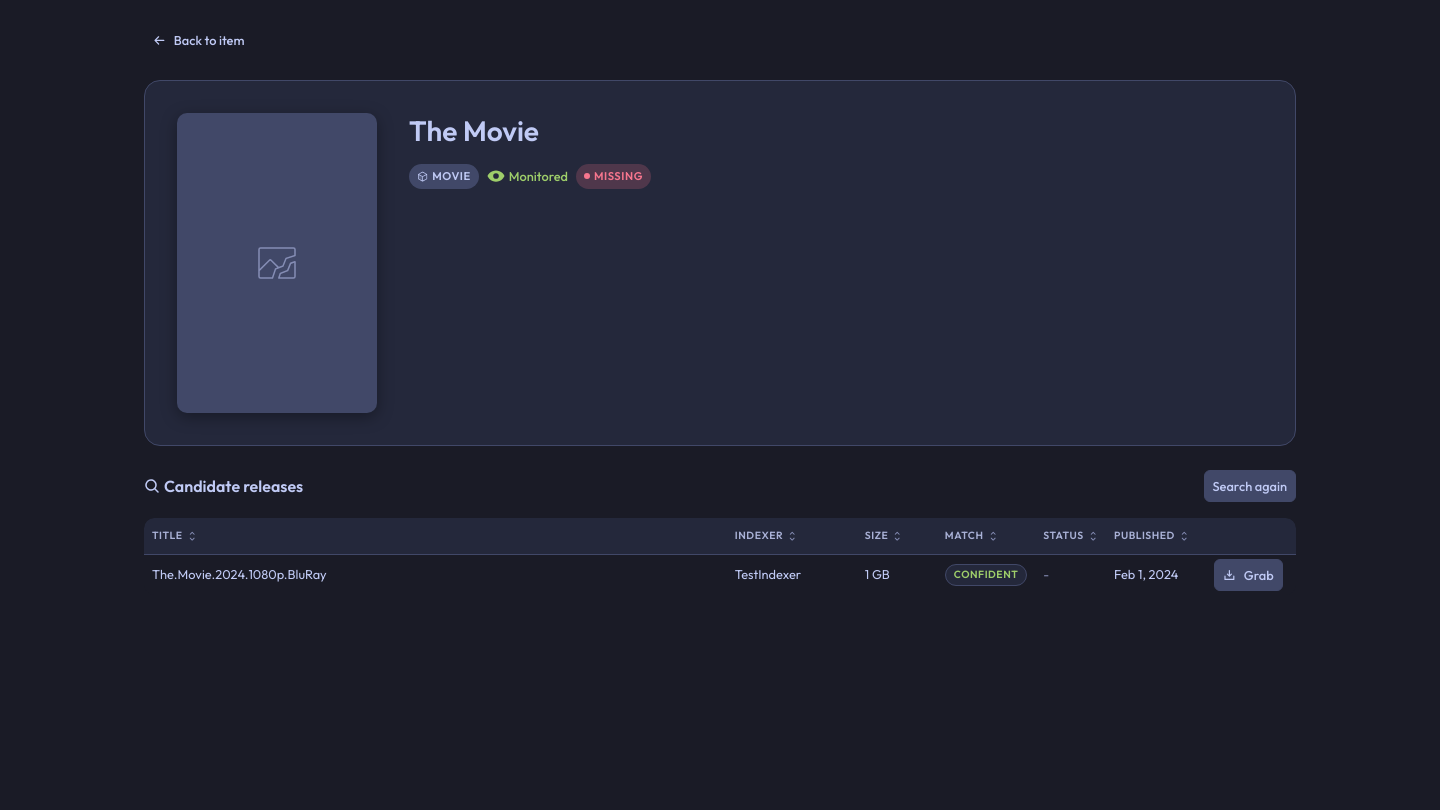
InteractiveSearchPage › shows provider properties in generic release details
The image size is (1440, 810).
Click the button "The.Movie.2024.1080p.BluRay". click: (239, 575)
box: [152,565,327,585]
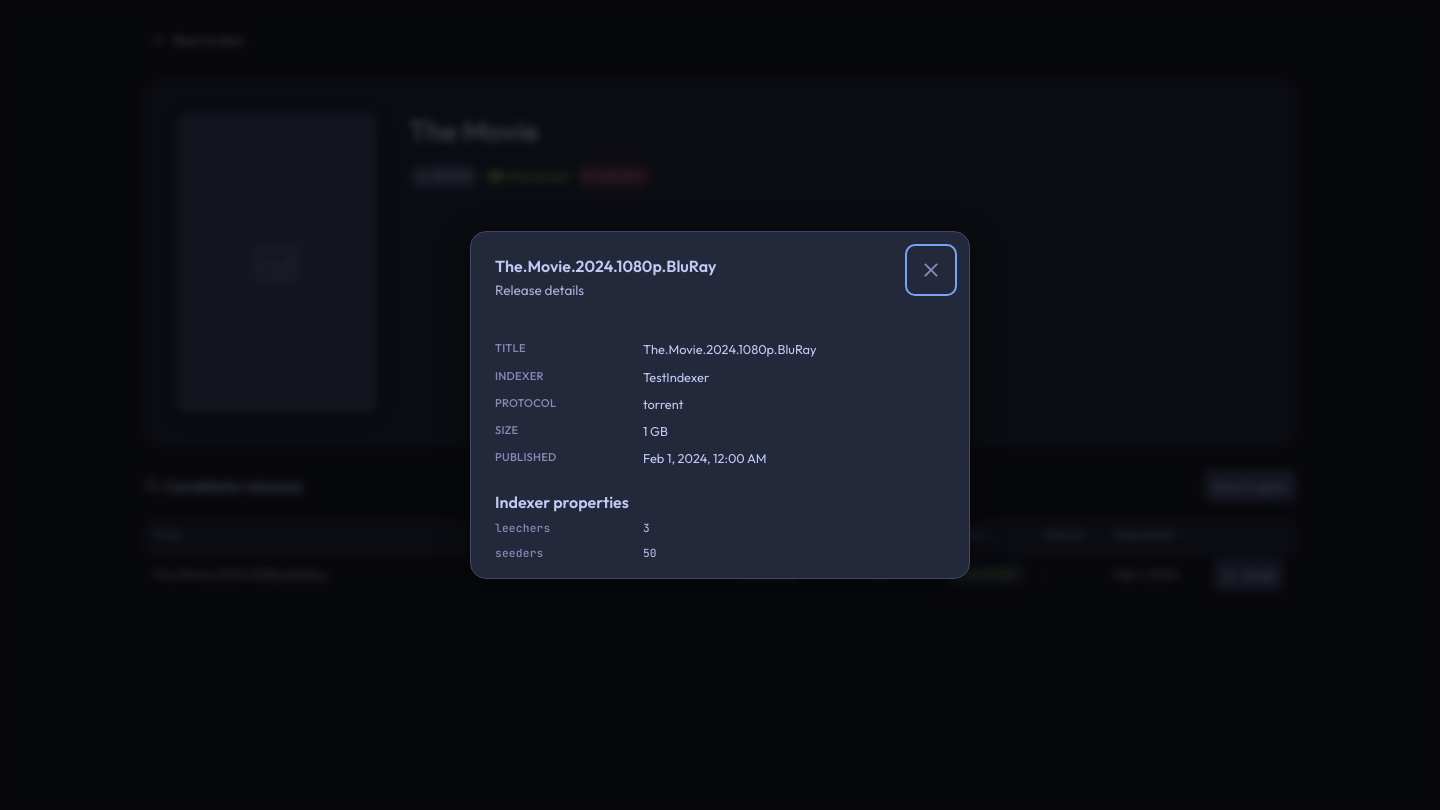
Result: the text "seeders" is shown at [495,546,544,560]
Result: the text "50" is shown at [643,546,656,560]
Result: the text "leechers" is shown at [495,521,550,535]
